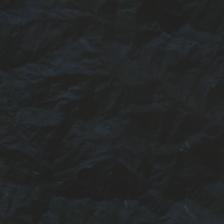landslides: (63, 9, 80, 20), (184, 206, 195, 218)
